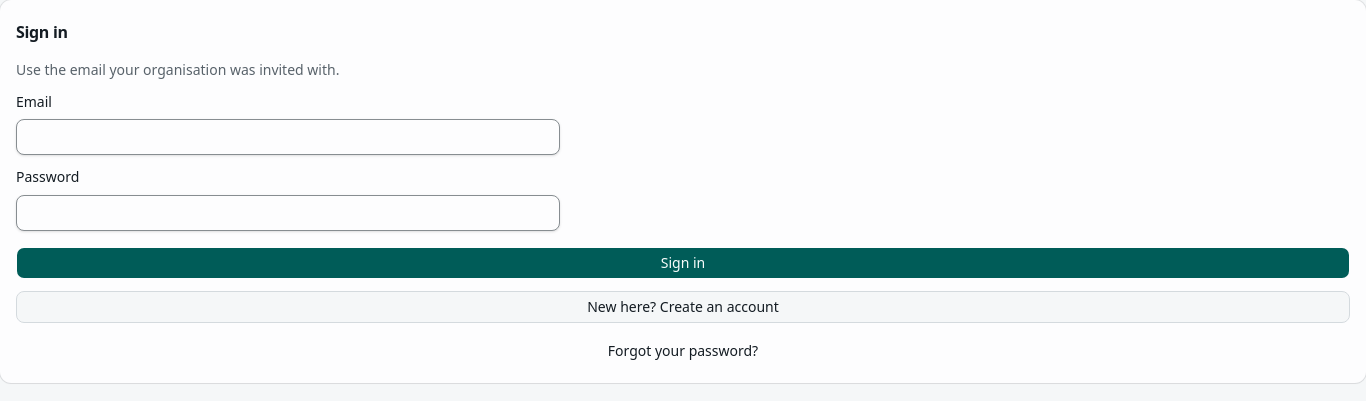
SignIn › offers backup-code entry and keeps verification errors inline
The image size is (1366, 401).
Type "owner@example.test" into the field labelled "Email" at (288, 137), box left=16, top=119, right=560, bottom=155
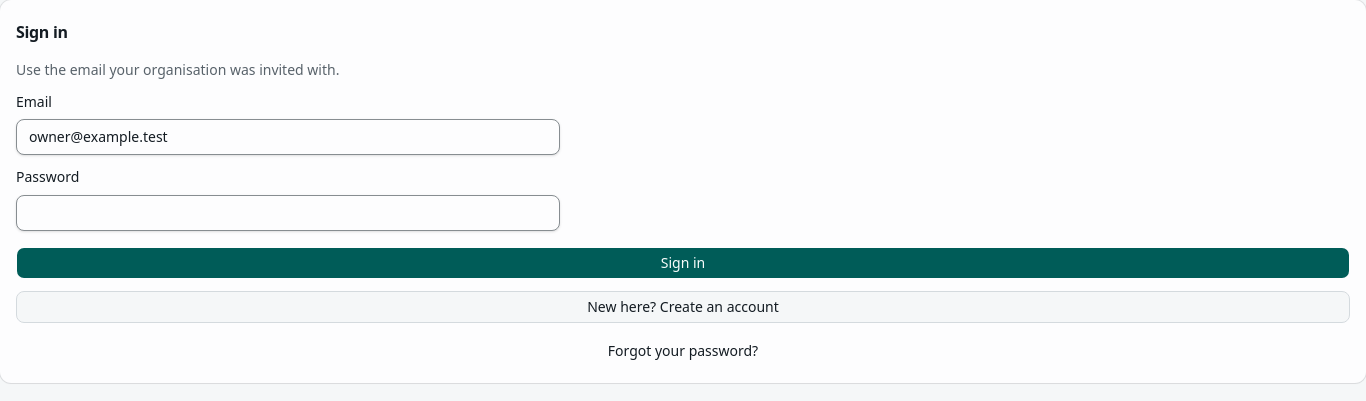
Type "password-123" into the password field labelled "Password" at (288, 212), box left=16, top=194, right=560, bottom=230
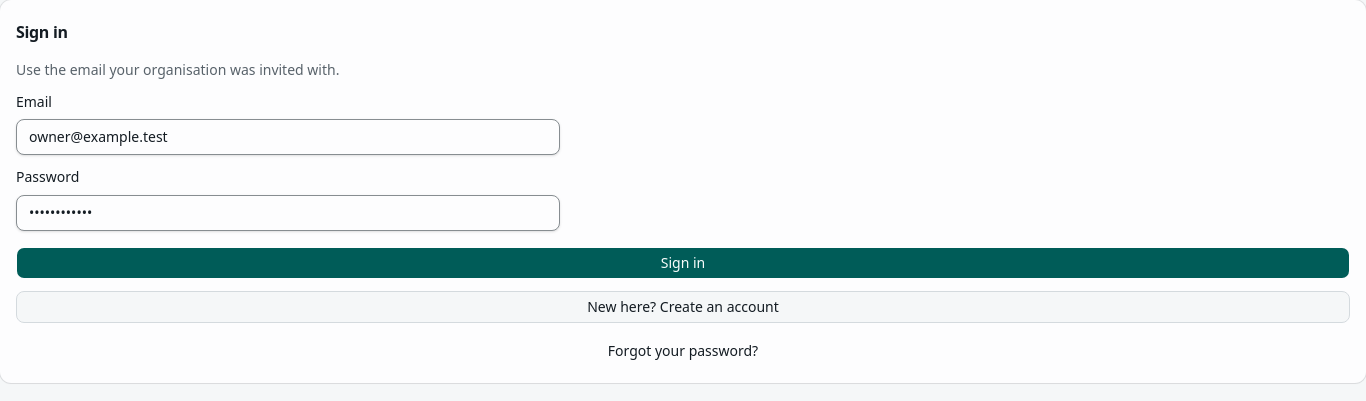
Click the button "Sign in" at (683, 262), box left=16, top=246, right=1350, bottom=278
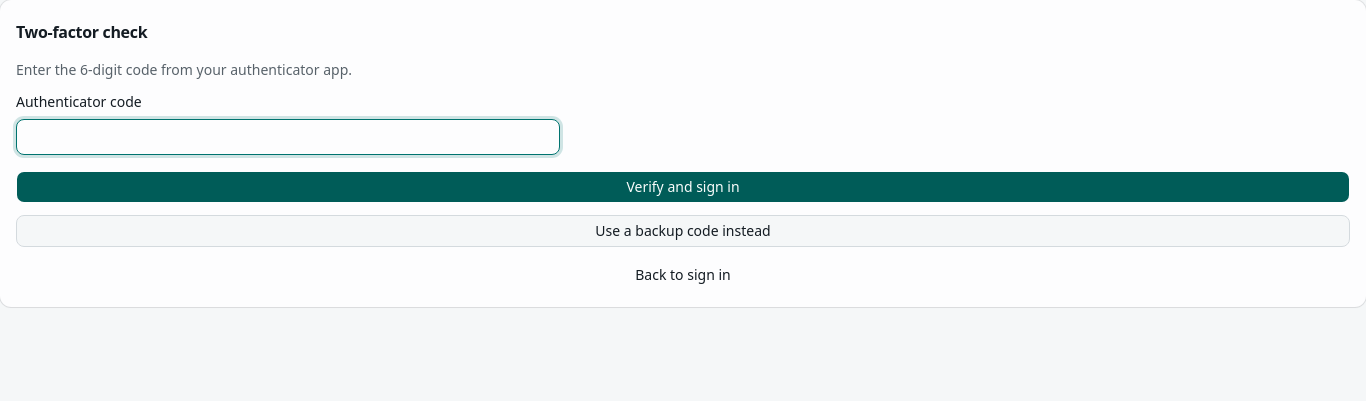
Now the heading "Two-factor check" is shown, box left=16, top=16, right=147, bottom=48
Click the button "Use a backup code instead" at (683, 231), box left=16, top=215, right=1350, bottom=247
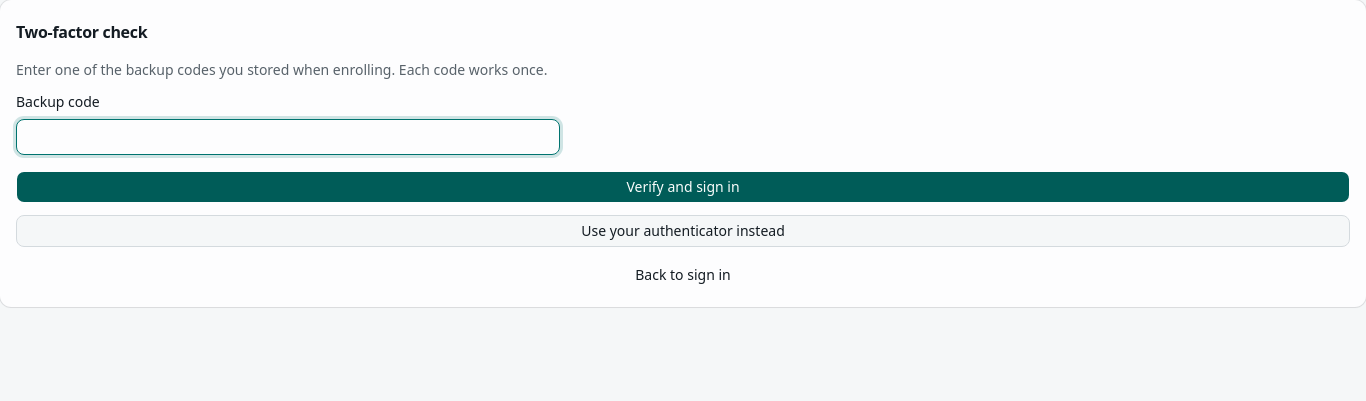
Type "abcde-12345" into the field labelled "Backup code" at (288, 137), box left=16, top=119, right=560, bottom=155
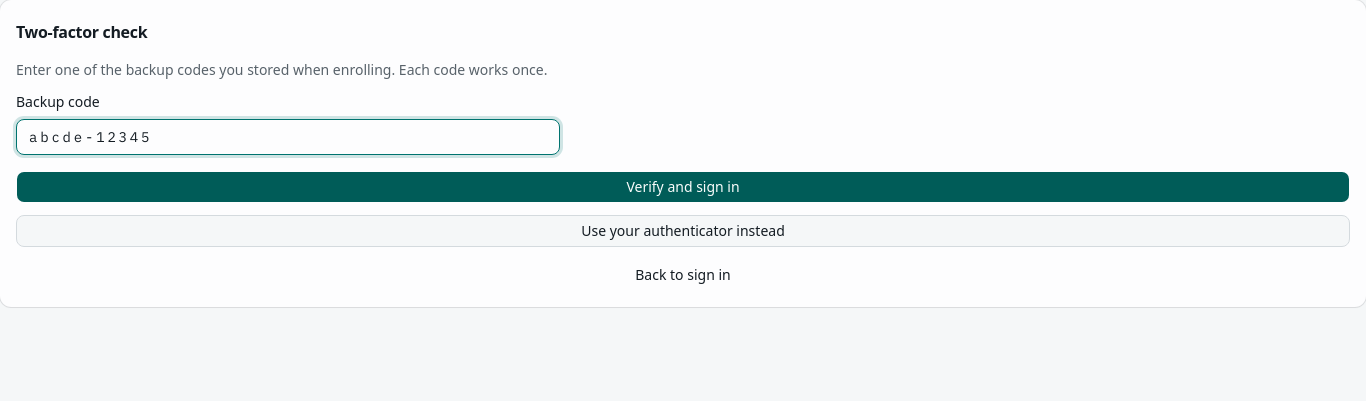
Click the button "Verify and sign in" at (683, 187), box left=16, top=171, right=1350, bottom=203
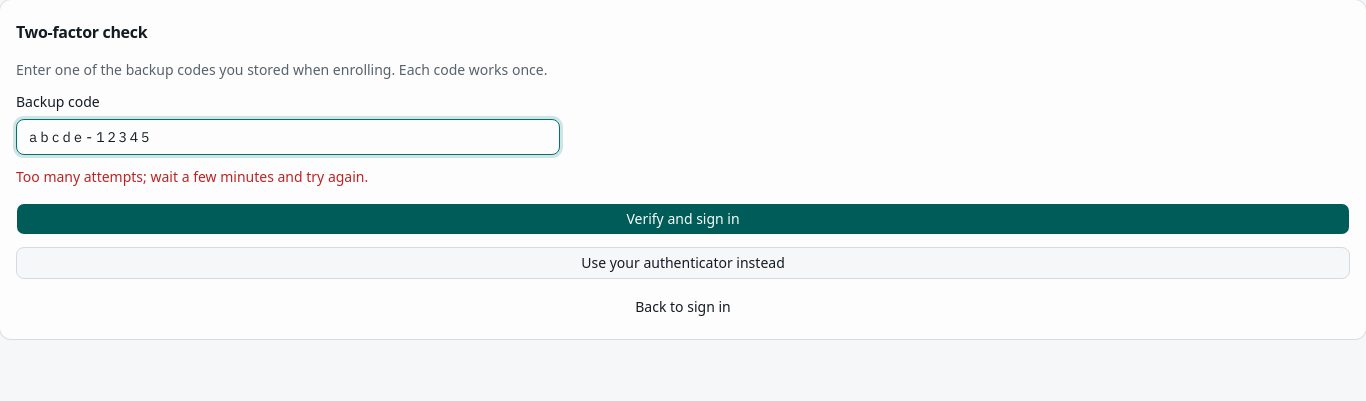
Now the message reads "Too many attempts; wait a few minutes and try again.", box left=16, top=167, right=368, bottom=186
